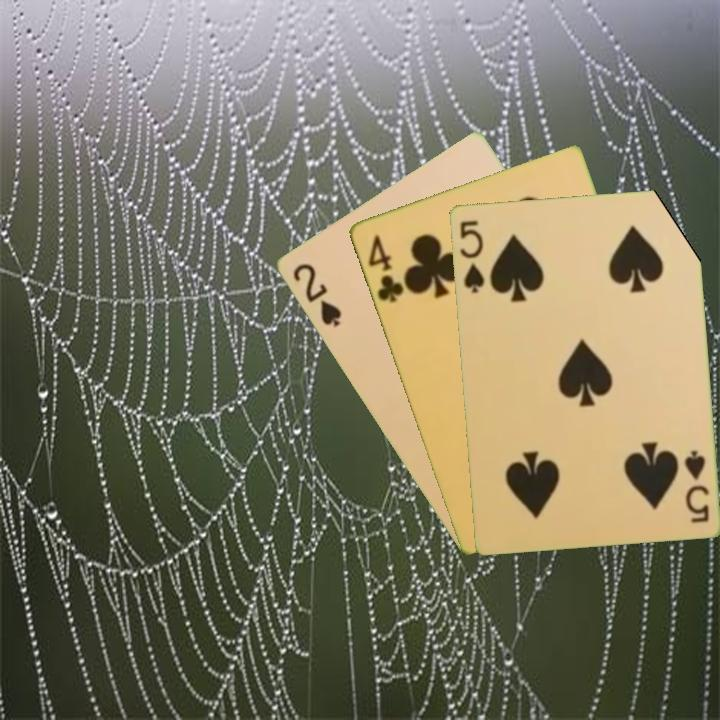2s: (288, 259, 344, 330)
4c: (364, 230, 406, 305)
5s: (680, 446, 712, 525), (456, 216, 487, 296)
